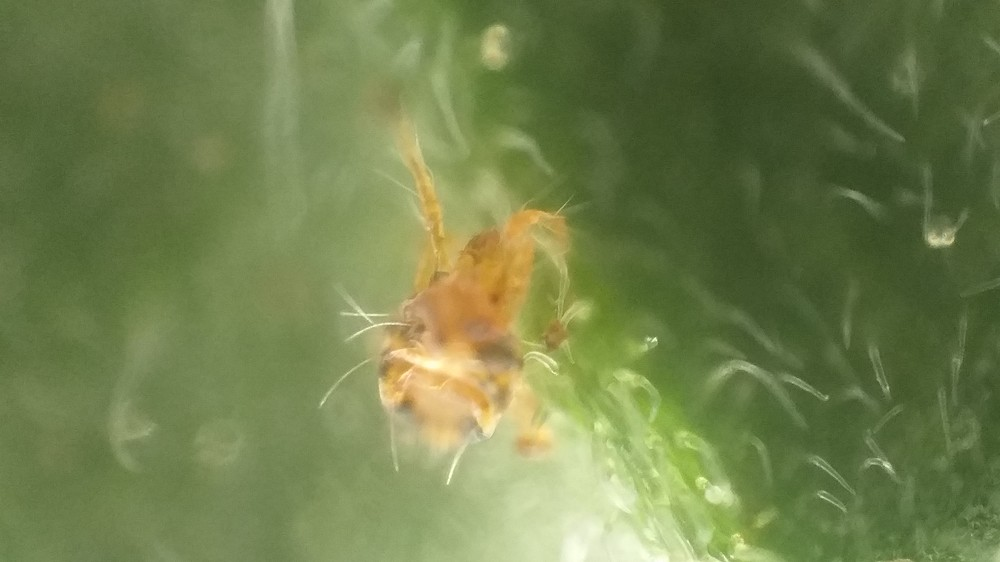Aracnido Rojo: (295, 98, 591, 484)
